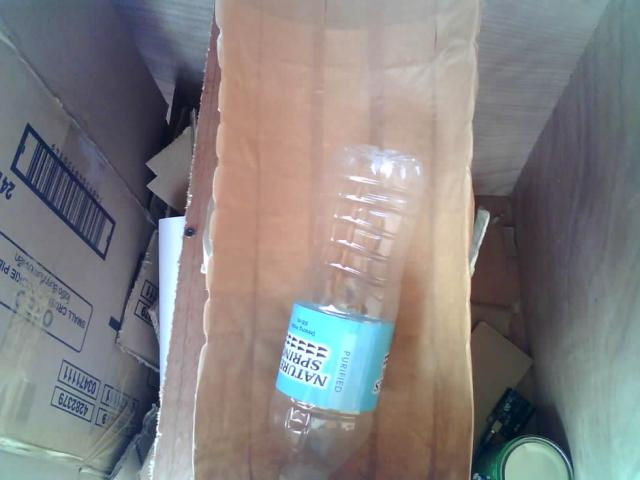small_bottle: (256, 121, 448, 480)
